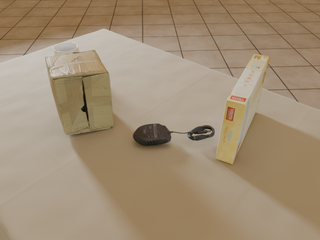box: (216, 54, 269, 164), (45, 50, 113, 135)
cup: (53, 42, 79, 55)
mouse: (133, 124, 173, 146)
